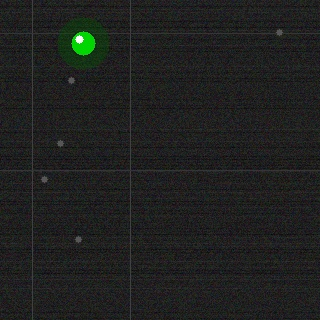green_normal: (69, 29, 97, 57)
